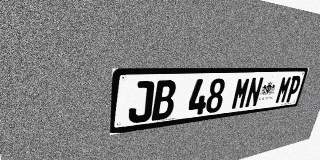4: (187, 79, 210, 116)
8: (204, 78, 227, 114)
B: (151, 80, 177, 121)
J: (128, 81, 155, 124)
M: (230, 77, 251, 110), (274, 76, 292, 104)
N: (244, 77, 264, 108)
P: (285, 75, 302, 103)
